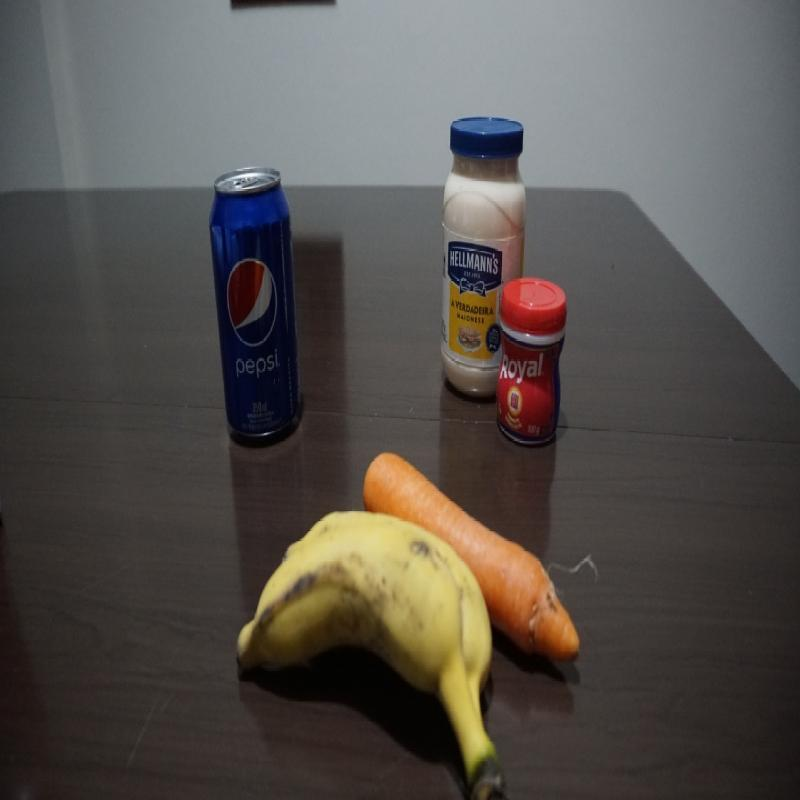Banana: (237, 508, 494, 716)
Carrot: (366, 444, 576, 656)
Mayonnaise: (440, 117, 520, 396)
Soda can: (207, 161, 304, 439)
Yeast: (495, 276, 562, 438)
